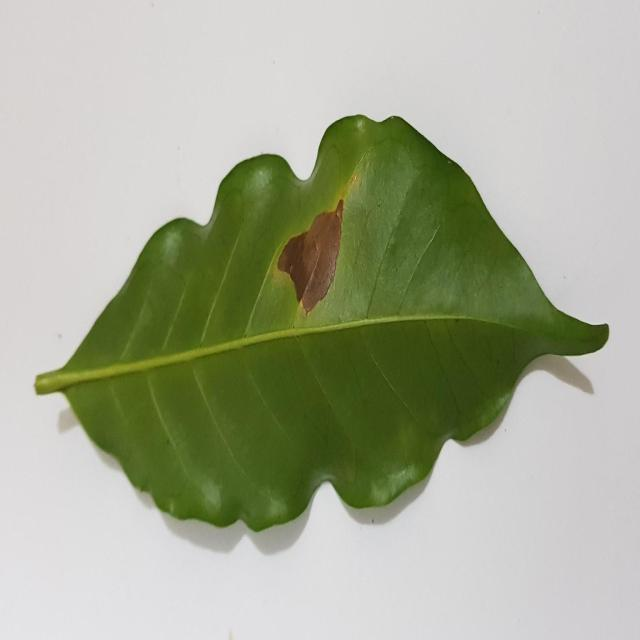miner: (277, 199, 344, 315)
